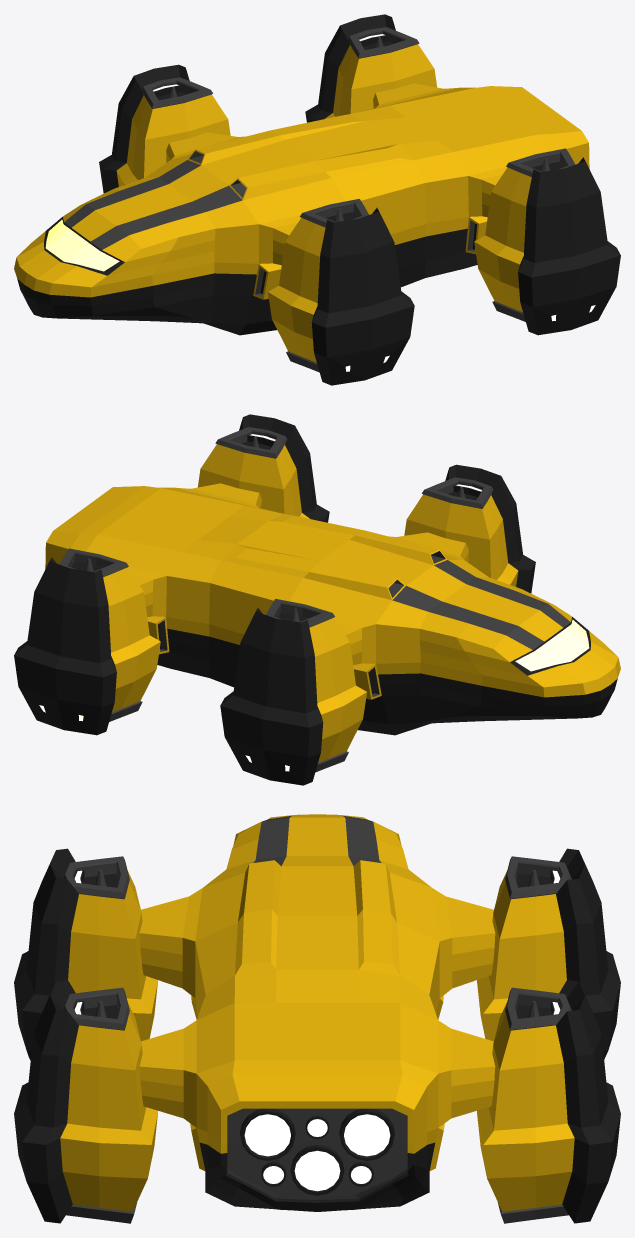
File: hubship.fbx
3 renders of one model, top to bottom at view 1: azimuth 30°, elevation 25°; view 2: azimuth 150°, elevation 25°; view 3: azimuth 270°, elevation 25°, orthographic. The views are drawn at different scales.
Visible parts, largest first — view 1: Cube.002; view 2: Cube.002; view 3: Cube.002.
Part boxes in pixels (box(x1,y1,x2,y2)): Cube.002: box(14, 14, 620, 385); Cube.002: box(14, 414, 620, 785); Cube.002: box(14, 814, 620, 1223).
Size of the model in its own units: 617 by 194 by 470.
